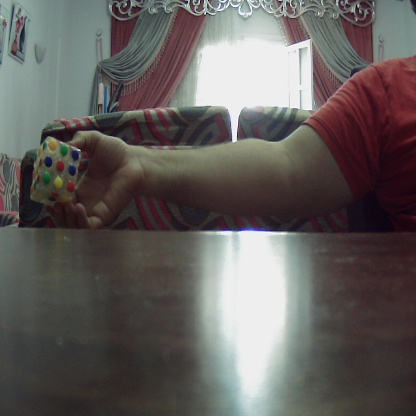Rubix Cube: (29, 142, 80, 203)
